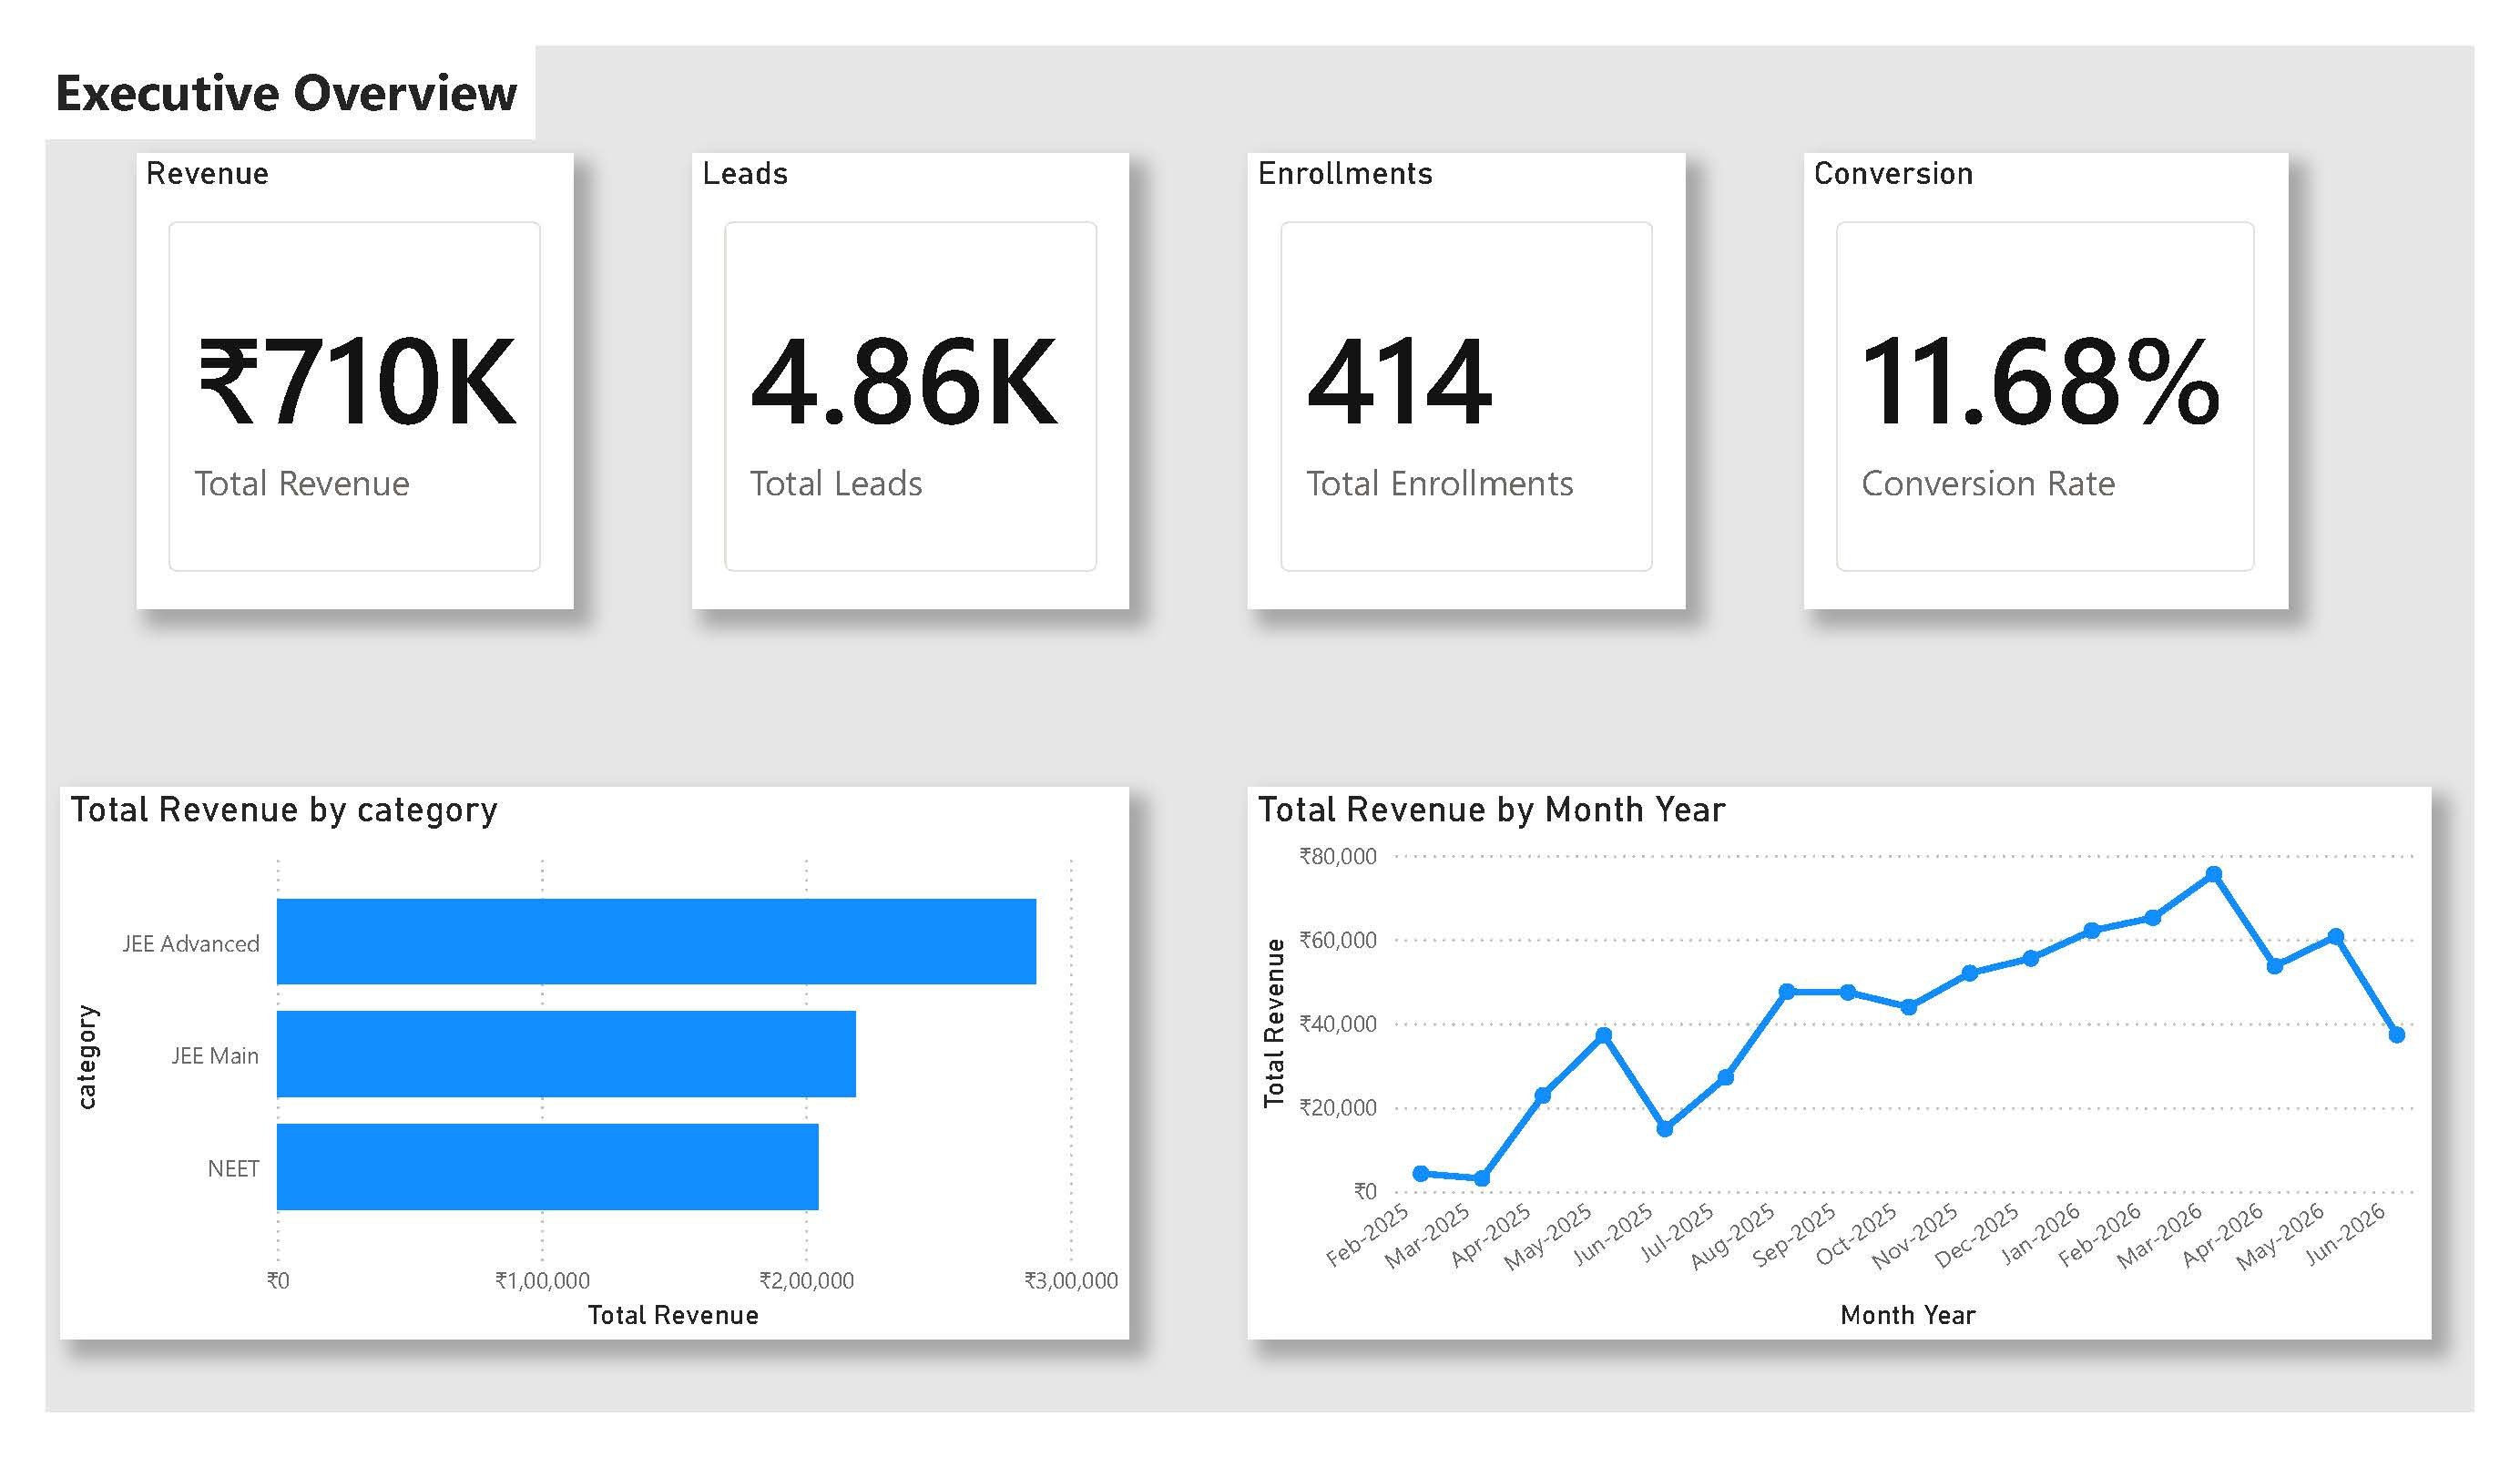

The dashboard page shown, as its layout file describes it:
{"tool":"powerbi","page":{"name":"Executive Overview","canvas":[1280,720],"ordinal":0},"visuals":[{"type":"cardVisual","title":"Revenue","fields":{"Data":["edtech payments.Total Revenue"]},"box":[47.7,57.4,230.5,239.3],"z":0},{"type":"cardVisual","title":"Leads","fields":{"Data":["edtech leads.Total Leads"]},"box":[340.7,57.4,230.5,239.3],"z":1000},{"type":"cardVisual","title":"Enrollments","fields":{"Data":["edtech enrollments.Total Enrollments"]},"box":[633.8,57.4,230.5,239.3],"z":2000},{"type":"cardVisual","title":"Conversion","fields":{"Data":["edtech leads.Conversion Rate"]},"box":[926.9,57.4,254.8,239.3],"z":3000},{"type":"clusteredBarChart","fields":{"Category":["edtech courses.category"],"Y":["edtech payments.Total Revenue"]},"box":[7.8,391,563.2,290.8],"z":4000},{"type":"lineChart","fields":{"Y":["edtech payments.Total Revenue"],"Category":["Date Table.Month Year"]},"box":[634.2,391,622.5,290.8],"z":5000},{"type":"textbox","box":[0,0,257.8,48.6],"z":6000}]}

Visuals, with their boxes on the page's 1280x720 design canvas (x1, y1, x2, y2). These are canvas units, not pixel positions in the 2520x1457 screenshot, which may show the page scaled, cropped or inside an application window:
"Revenue" cardVisual: locate(48, 57, 278, 297)
"Leads" cardVisual: locate(341, 57, 571, 297)
"Enrollments" cardVisual: locate(634, 57, 864, 297)
"Conversion" cardVisual: locate(927, 57, 1182, 297)
clusteredBarChart - edtech courses.category x edtech payments.Total Revenue: locate(8, 391, 571, 682)
lineChart - edtech payments.Total Revenue x Date Table.Month Year: locate(634, 391, 1257, 682)
textbox: locate(0, 0, 258, 49)
